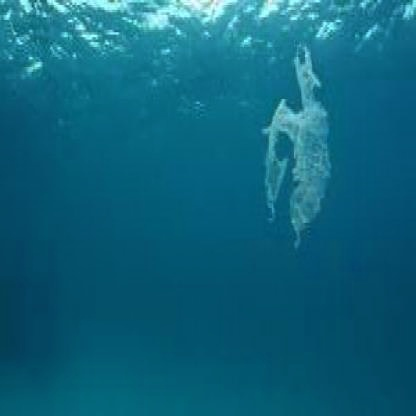pbag: (263, 37, 332, 250)
